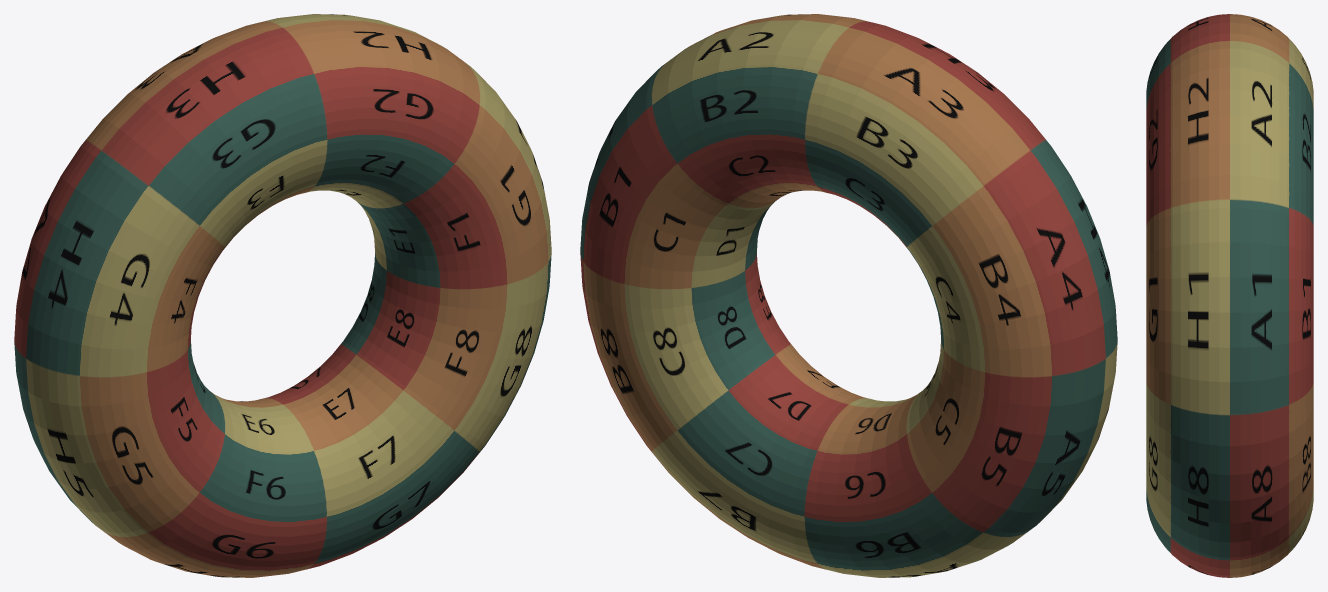
The model's file is texture_torus_R10_r19.glb.
The picture shows the model from 3 angles, left to right: view 1: azimuth 30°, elevation 25°; view 2: azimuth 150°, elevation 25°; view 3: azimuth 270°, elevation 25°; orthographic projection. The views are drawn at different scales.
Visible parts, largest first — view 1: world; view 2: world; view 3: world.
Part boxes in pixels (bbox=[...]): world: bbox=[14, 14, 551, 577]; world: bbox=[580, 14, 1117, 577]; world: bbox=[1146, 14, 1313, 577].
Size of the model in its own units: 23.73 by 23.69 by 7.05.
Materials: 1 (1 with a texture image).
